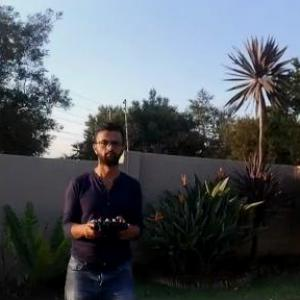follow: (53, 117, 147, 299)
